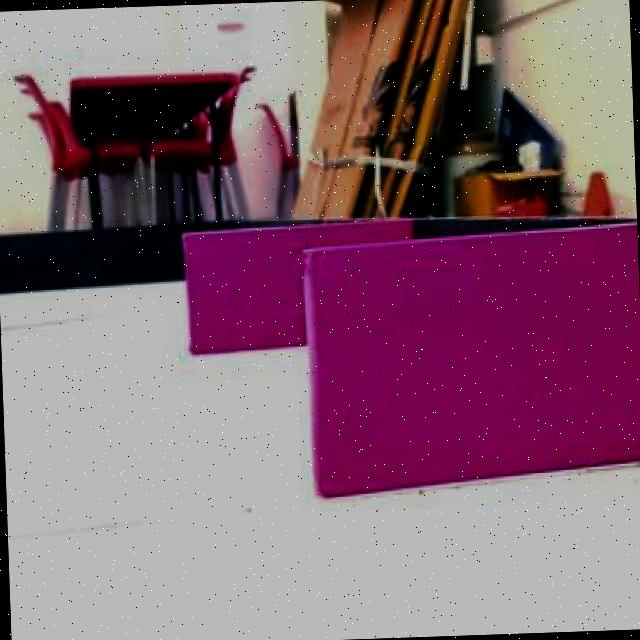xparking: (307, 229, 640, 480), (182, 223, 304, 349)
